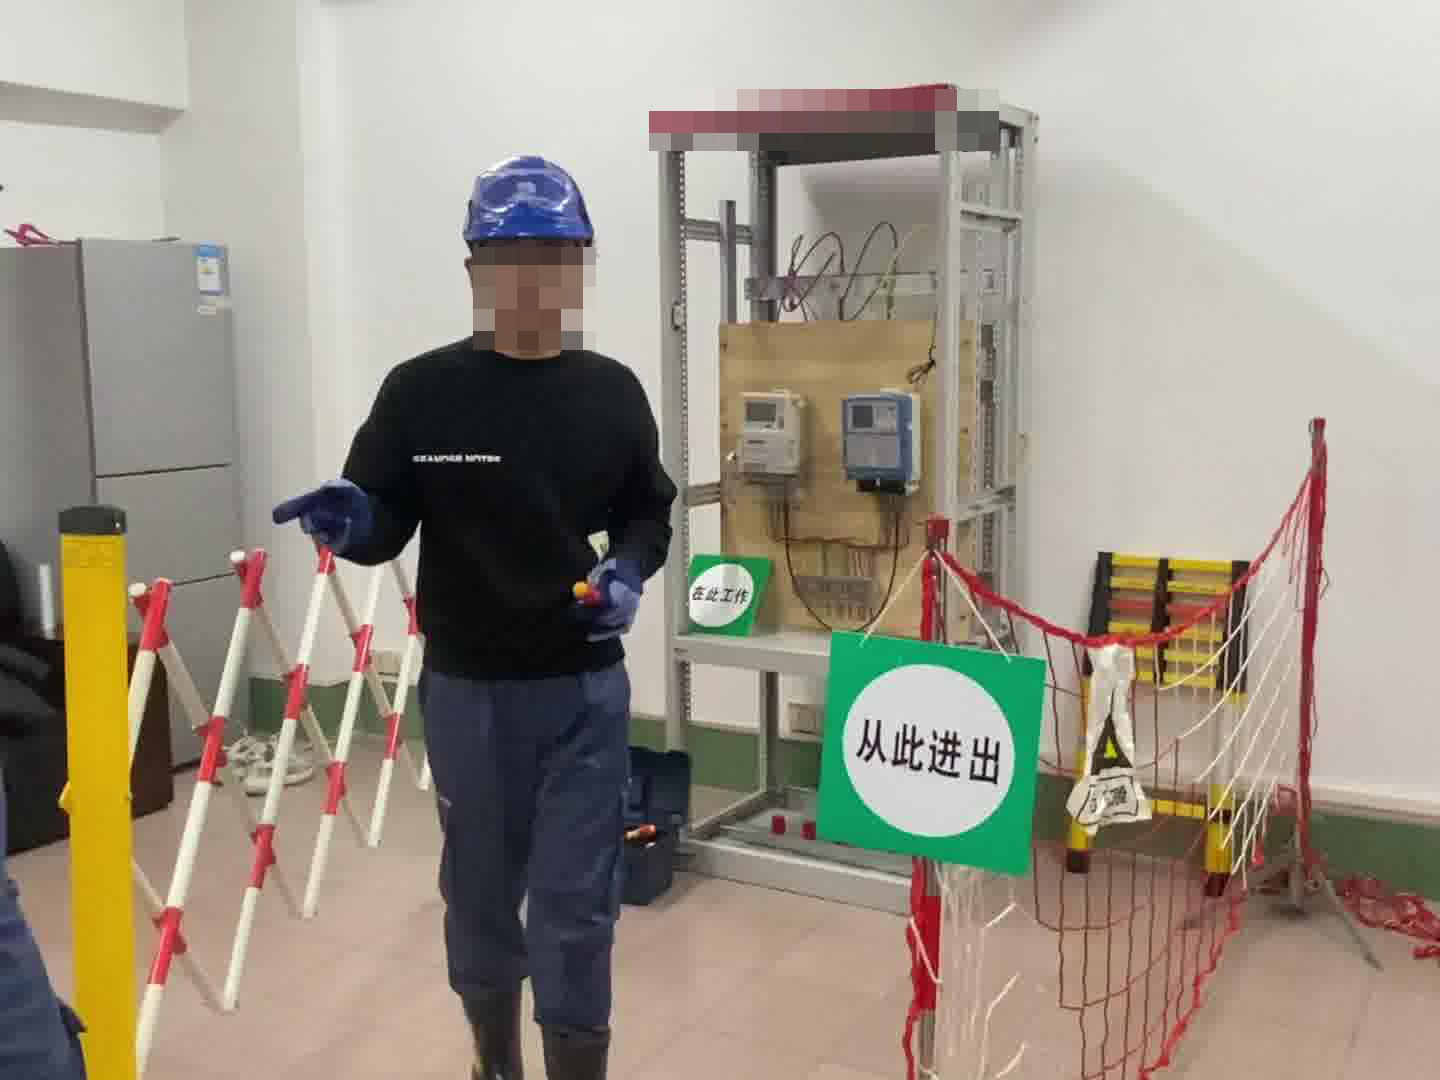downsuit: (413, 665, 631, 1061)
glove: (272, 480, 393, 572), (577, 557, 650, 649)
halt: (455, 150, 606, 354)
intosign: (814, 628, 1047, 882)
person: (281, 148, 689, 1080)
upcloth: (332, 332, 667, 675)
worksign: (679, 547, 774, 640)
